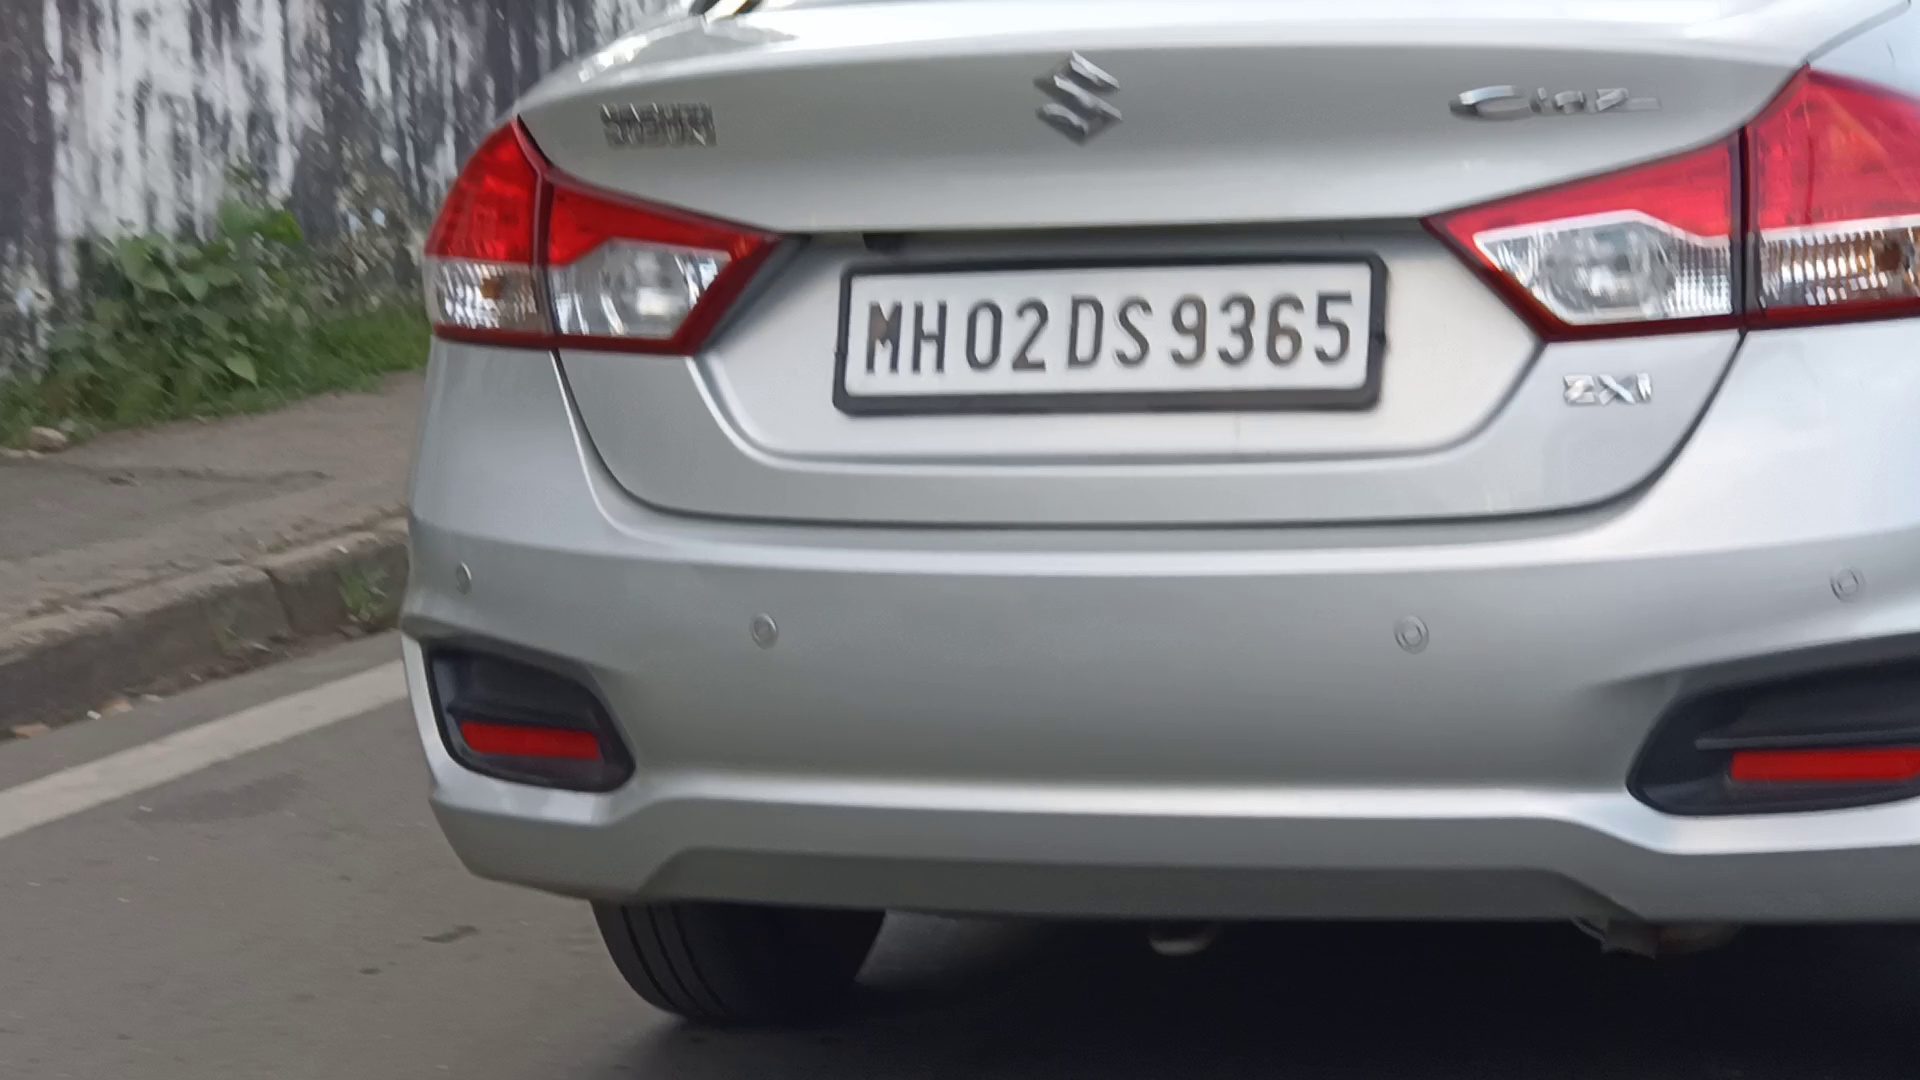MH02DS9365: (845, 260, 1371, 396)
